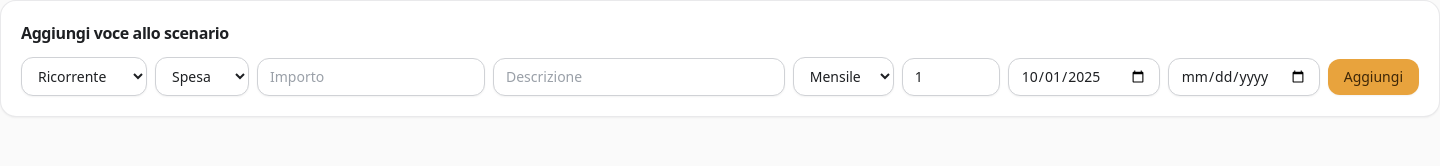
Test: ScenarioItemForm › rejects an adjustment without a category
Select "Categoria %" in the dropdown named "Tipo di voce" at (84, 76), box 21,57 -> 147,96
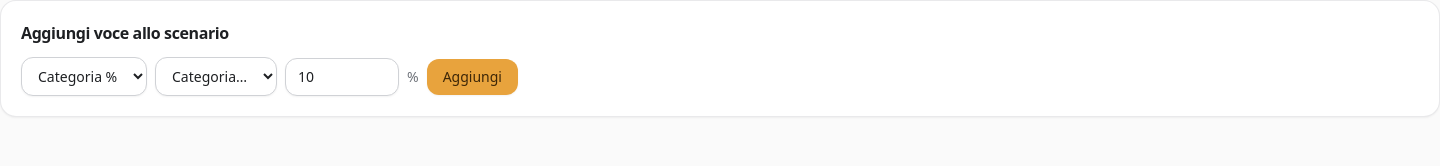
Click the button "Aggiungi" at (472, 76), box 427,58 -> 518,94
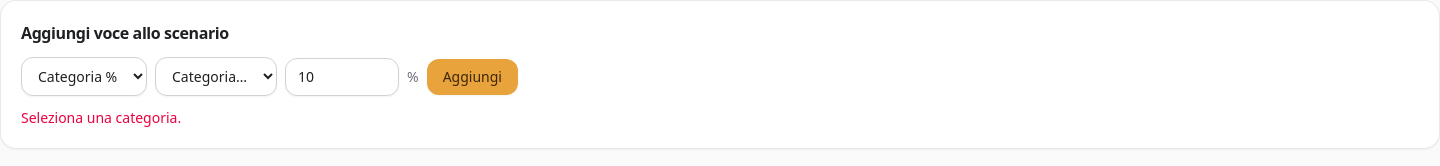
Now the text "Seleziona una categoria." is shown, box 21,108 -> 181,127
